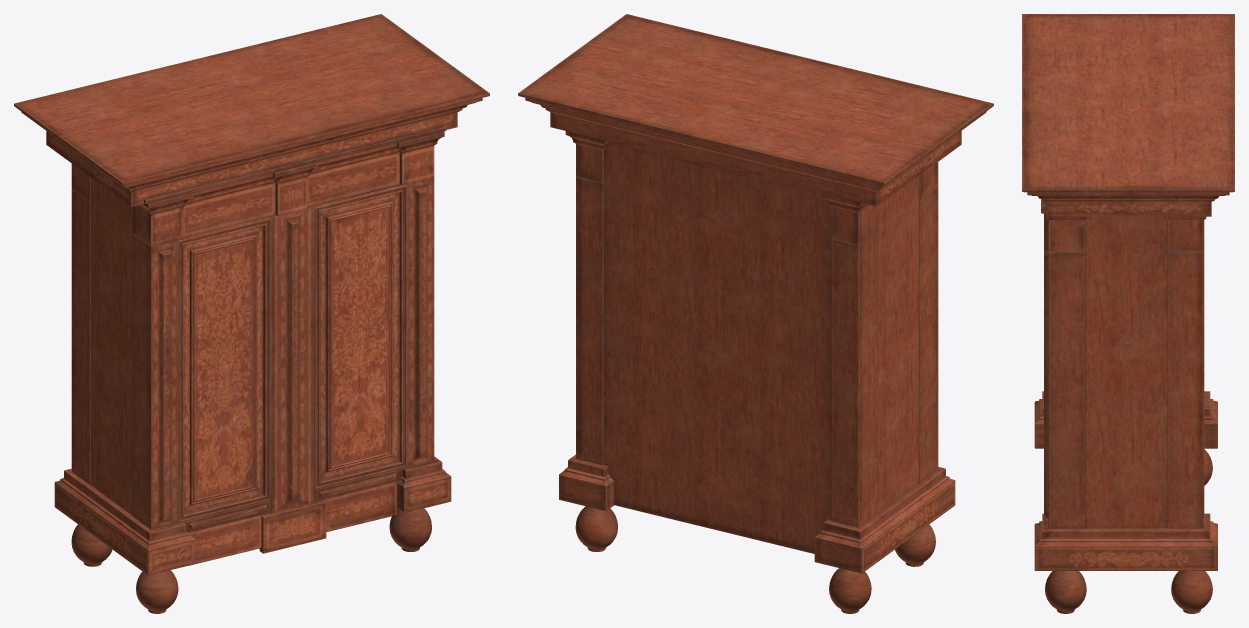
The model's file is wardrobe-hidden.glb.
3 views of the same model, side by side, from view 1: azimuth 30°, elevation 25°; view 2: azimuth 150°, elevation 25°; view 3: azimuth 270°, elevation 25° (orthographic). The views are drawn at different scales.
Parts seen in each view (by area): view 1: Cube.001, Cube.013, Plane.001, Plane, Cube.014, Cube.006, Cube.005, Cube.008, Circle, Cube, Cube.007, Cube.002 (+1 smaller); view 2: Cube.014, Cube.001, Cube.013, Circle, Cube.012; view 3: Cube.001, Cube.013, Cube.014, Circle, Cube, Cube.012.
Part boxes in pixels (<box>): Cube.001: <box>14,14,489,206</box>; Cube.013: <box>54,178,451,575</box>; Plane.001: <box>314,185,407,489</box>; Plane: <box>178,217,270,522</box>; Cube.014: <box>91,178,400,515</box>; Cube.006: <box>269,206,314,513</box>; Cube.005: <box>183,143,399,236</box>; Cube.008: <box>188,482,396,565</box>; Circle: <box>71,508,431,613</box>; Cube: <box>132,131,444,246</box>; Cube.007: <box>183,468,402,533</box>; Cube.002: <box>144,126,446,203</box>; Cube.014: <box>603,142,918,553</box>; Cube.001: <box>518,14,993,206</box>; Cube.013: <box>559,176,955,573</box>; Circle: <box>575,506,935,613</box>; Cube.012: <box>565,131,877,245</box>; Cube.001: <box>1022,14,1234,216</box>; Cube.013: <box>1034,249,1217,570</box>; Cube.014: <box>1085,216,1167,528</box>; Circle: <box>1045,449,1212,613</box>; Cube: <box>1041,199,1087,251</box>; Cube.012: <box>1165,216,1206,251</box>.
Bounding box in the file's own units: 2.11 × 2.51 × 1.08.
1 material, 1 textured.
